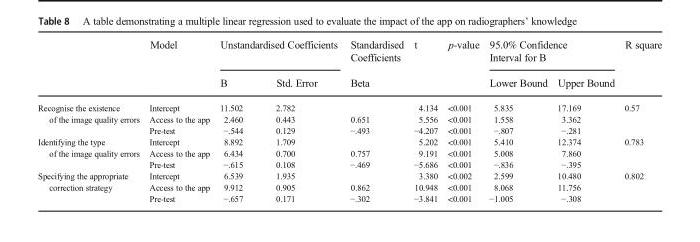table: (37, 37, 661, 203)
table column: (37, 37, 143, 203), (258, 37, 343, 203), (143, 37, 214, 203), (483, 37, 551, 203), (551, 37, 618, 203), (343, 37, 407, 203), (214, 37, 258, 203), (618, 37, 661, 203), (442, 37, 483, 203), (407, 37, 442, 203)
table column header: (37, 37, 661, 95)
table row: (37, 37, 661, 69), (37, 69, 661, 95), (37, 95, 661, 113), (37, 123, 661, 135), (37, 135, 661, 147), (37, 157, 661, 169), (37, 169, 661, 181), (37, 191, 661, 203), (37, 113, 661, 123), (37, 147, 661, 157), (37, 181, 661, 191)
table spanning cell: (483, 37, 618, 69), (37, 95, 143, 135), (214, 37, 343, 69), (143, 37, 214, 95), (343, 37, 407, 95), (37, 135, 143, 169), (37, 169, 143, 203), (618, 37, 661, 95), (442, 37, 483, 95), (407, 37, 442, 95), (618, 95, 661, 135), (618, 135, 661, 169), (618, 169, 661, 203)
